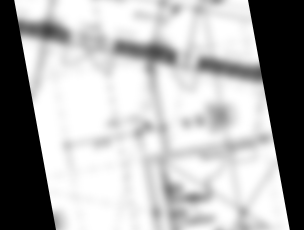door: (170, 60, 203, 96), (200, 151, 231, 182), (189, 196, 217, 221)
double door: (57, 34, 120, 83)
